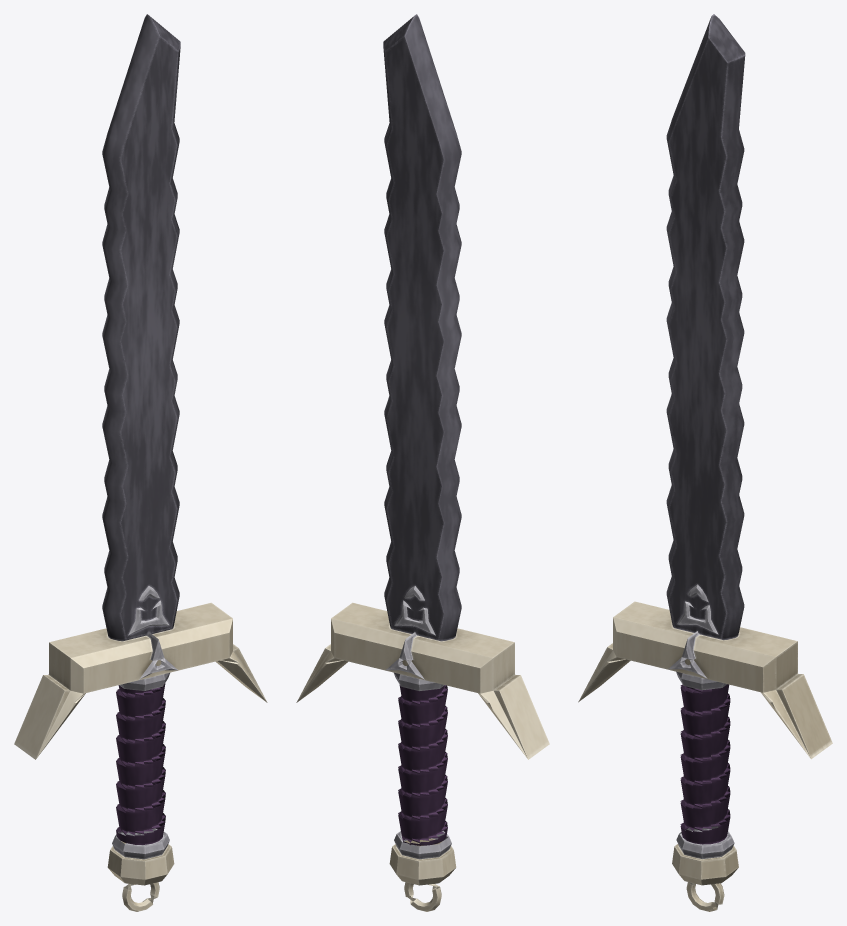
File: Shadecut.fbx
The picture shows the model from 3 angles, left to right: view 1: azimuth 30°, elevation 25°; view 2: azimuth 150°, elevation 25°; view 3: azimuth 330°, elevation 25°; orthographic projection.
Parts seen in each view (by area): view 1: Shadecut_Body; view 2: Shadecut_Body; view 3: Shadecut_Body.
Part boxes in pixels (x1,y1,x2,y2): Shadecut_Body: [14, 14, 267, 911]; Shadecut_Body: [296, 14, 549, 911]; Shadecut_Body: [578, 14, 832, 911].
Size of the model in its own units: 1.12 by 4.11 by 0.32.
